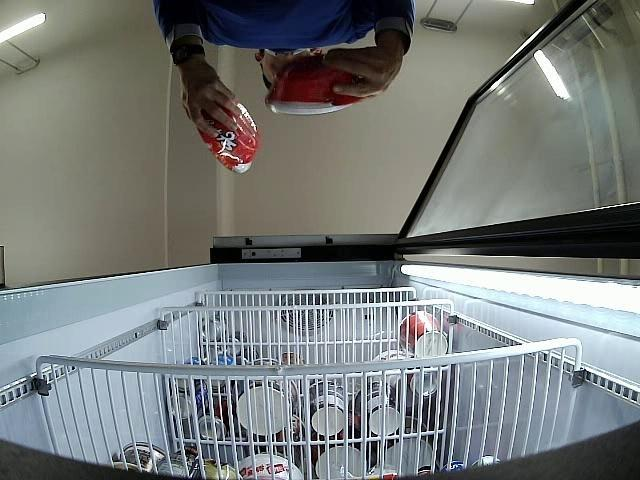10_wangTtukkeong: (264, 57, 374, 115), (196, 100, 258, 174)
